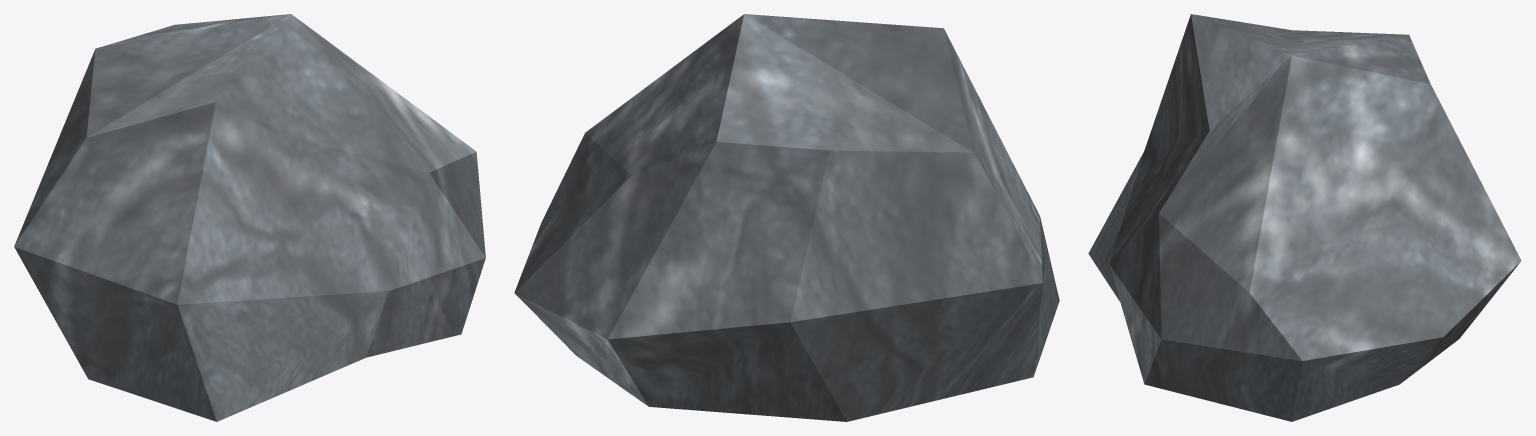
The model's file is RockB.fbx.
3 views of the same model, side by side, from view 1: azimuth 30°, elevation 25°; view 2: azimuth 150°, elevation 25°; view 3: azimuth 270°, elevation 25° (orthographic). The views are drawn at different scales.
Visible parts, largest first — view 1: RockB; view 2: RockB; view 3: RockB.
Part boxes in pixels (box(x1,y1,x2,y2)): RockB: box(14, 14, 485, 421); RockB: box(514, 14, 1059, 421); RockB: box(1088, 14, 1521, 421).
Bounding box in the file's own units: 236 × 145 × 201.
